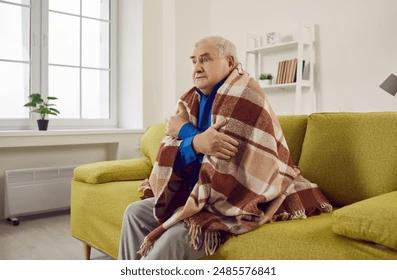blanket: (137, 62, 333, 256)
long sleeve shirt: (171, 80, 215, 180)
trousers: (117, 197, 207, 260)
